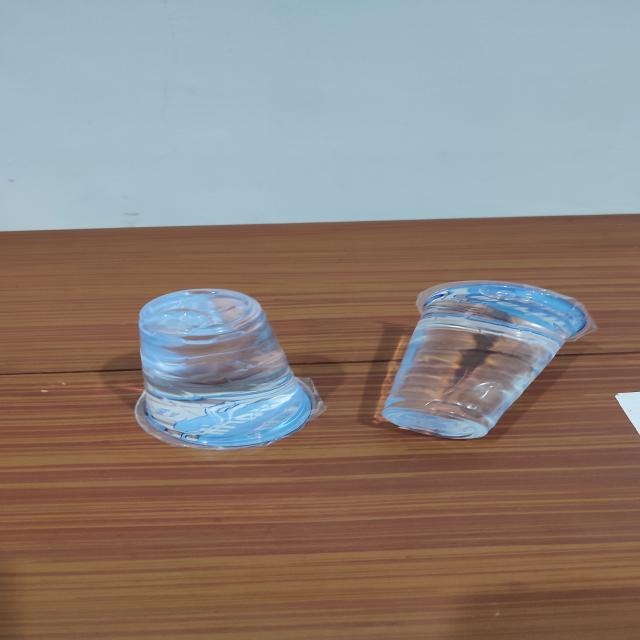air gelas: (364, 277, 599, 452), (119, 278, 342, 452)
